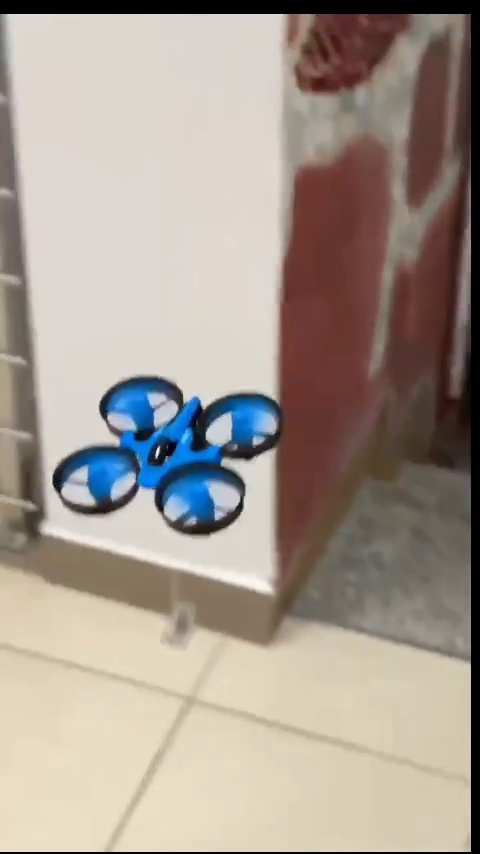drone: (59, 374, 286, 538)
